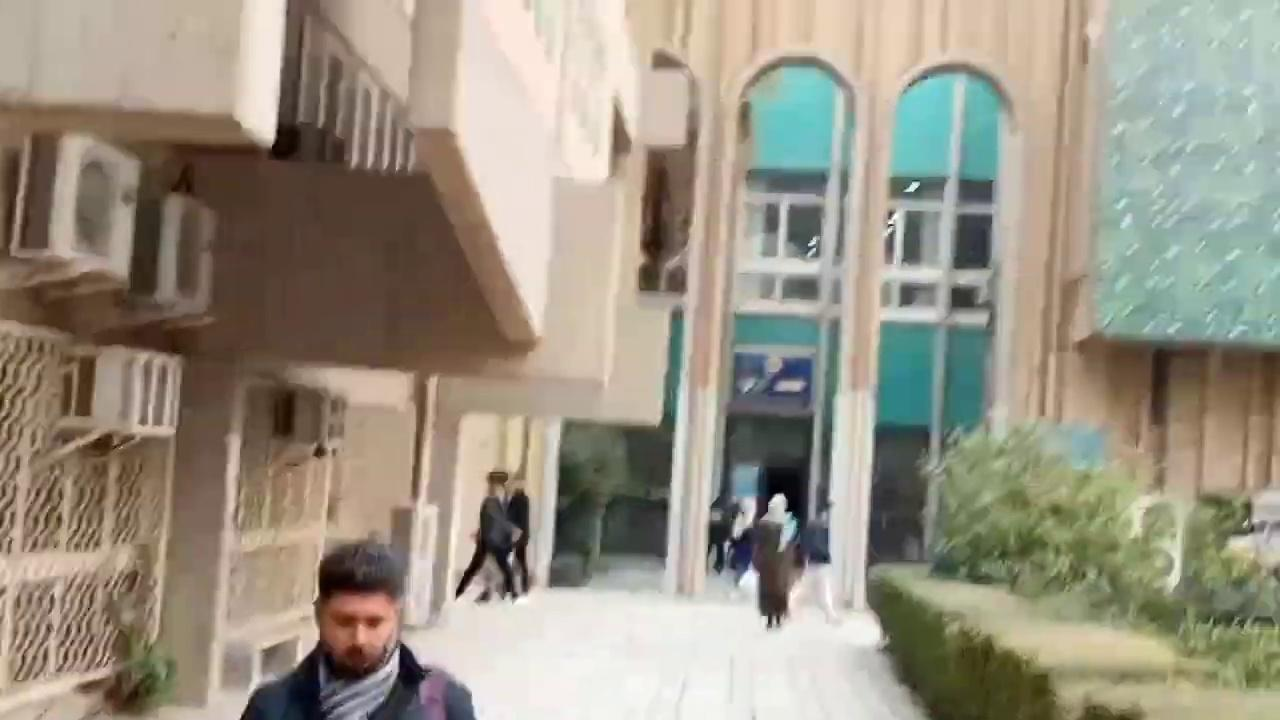person: (238, 541, 476, 719), (745, 496, 806, 634), (505, 482, 530, 595)
tree: (916, 414, 1174, 623), (916, 415, 1063, 584), (1116, 487, 1279, 627)
